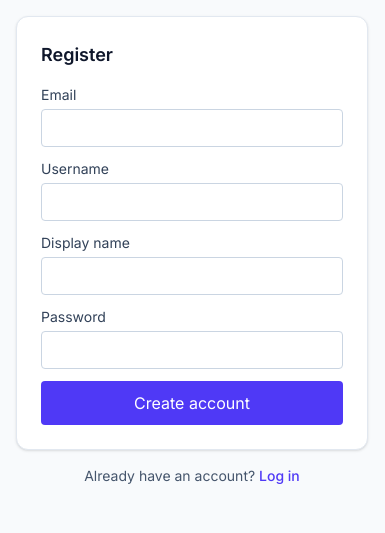
Test: RegisterPage › shows the backend conflict message inline on duplicate email/username without navigating
Type "alice@example.com" into the field labelled "Email".
click(192, 128); type("alice@example.com")  # box [41,109,343,147]
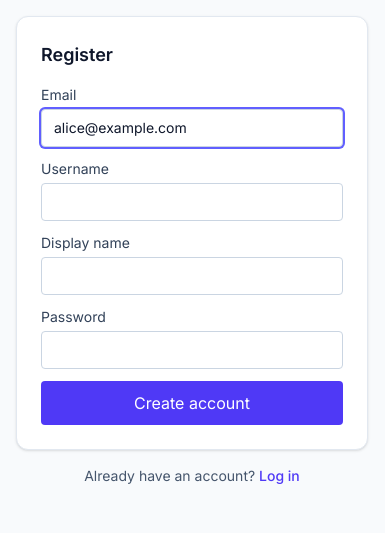
Type "alice" into the field labelled "Username".
click(192, 202); type("alice")  # box [41,183,343,221]
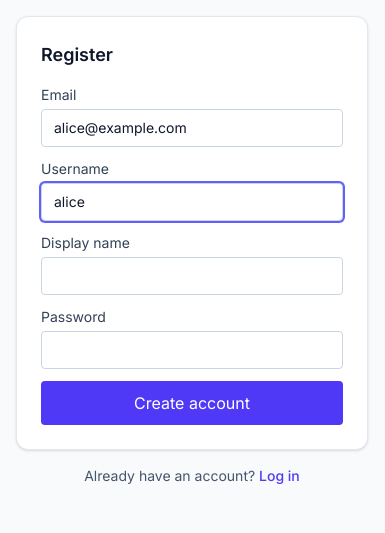
Type "Alice" into the field labelled "Display name".
click(192, 276); type("Alice")  # box [41,257,343,295]
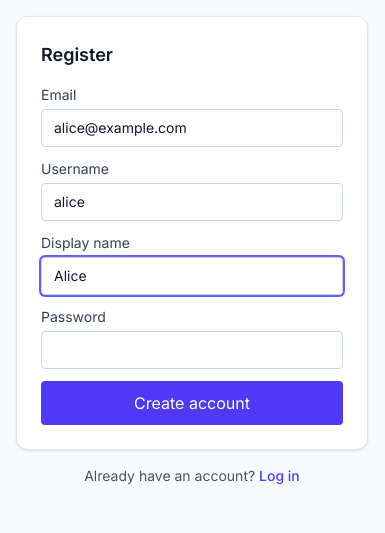
Type "supersecret" into the password field labelled "Password".
click(192, 350); type("supersecret")  # box [41,331,343,369]
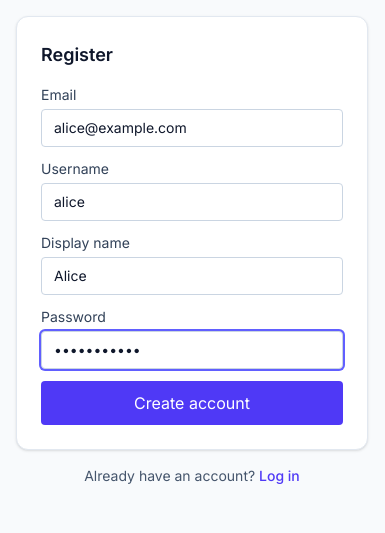
Click the button "Create account".
click(192, 403)  # box [41,381,343,425]
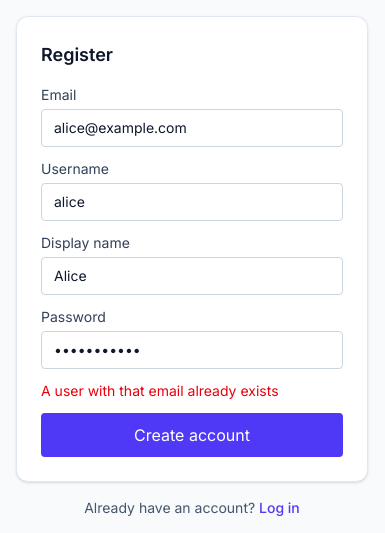
Check: the button "Create account" is shown, box [41,413,343,457]
Check: the message reads "A user with that email already exists", box [41,382,278,399]
